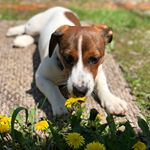puppy: (32, 4, 134, 121)
